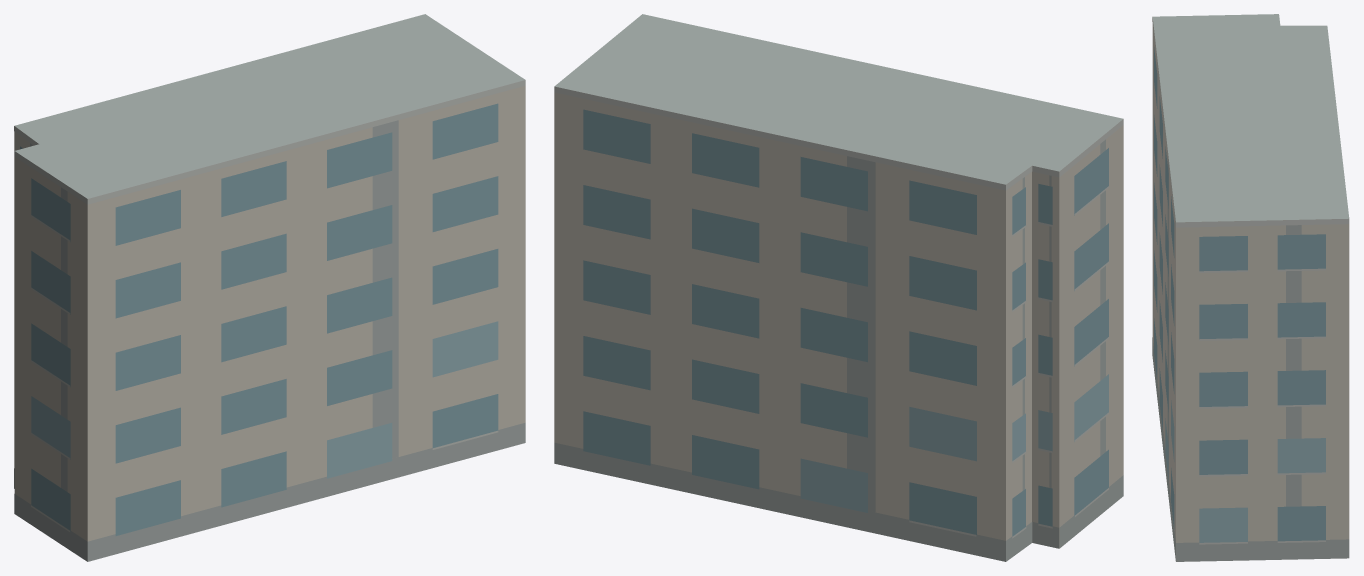
Rendered from survey-upis-32539073.glb.
The picture shows the model from 3 angles, left to right: view 1: azimuth 30°, elevation 25°; view 2: azimuth 150°, elevation 25°; view 3: azimuth 270°, elevation 25°; orthographic projection. The views are drawn at different scales.
Parts seen in each view (by area): view 1: survey-upis-32539073.tmp; view 2: survey-upis-32539073.tmp; view 3: survey-upis-32539073.tmp.
Boxes of the visible parts, x1,y1,x2,y2 form: survey-upis-32539073.tmp: (14,14,525,561); survey-upis-32539073.tmp: (554,14,1123,561); survey-upis-32539073.tmp: (1152,14,1349,561).
Bounding box in the file's own units: 20.47 × 15.55 × 8.18.
